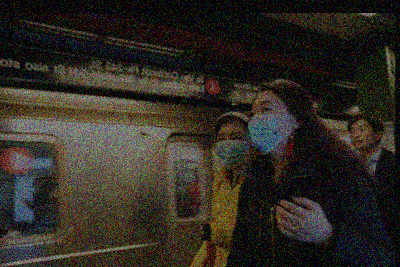with_mask: (246, 99, 290, 156), (213, 131, 249, 172)
without_mask: (348, 123, 373, 149)
